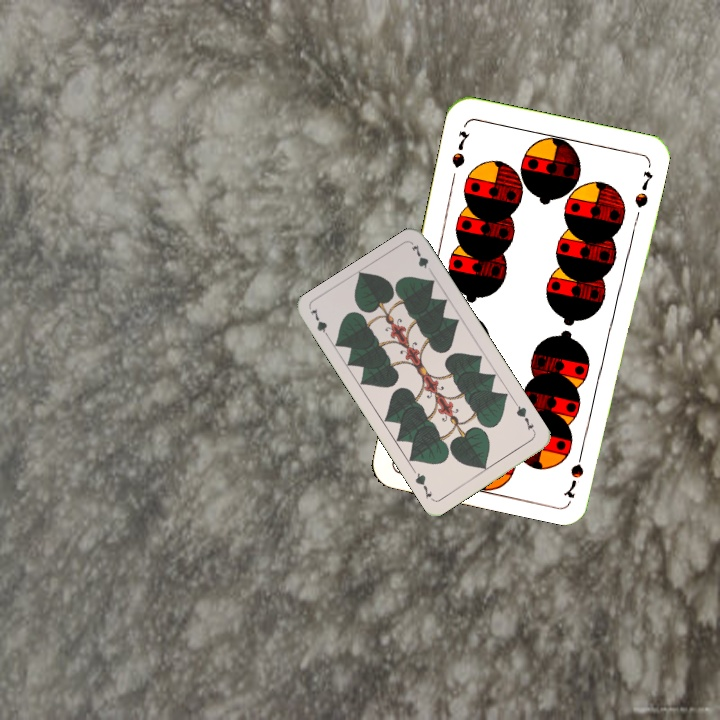G7: (306, 304, 334, 343), (511, 400, 538, 436)
S7: (562, 442, 587, 501), (447, 126, 472, 170)
